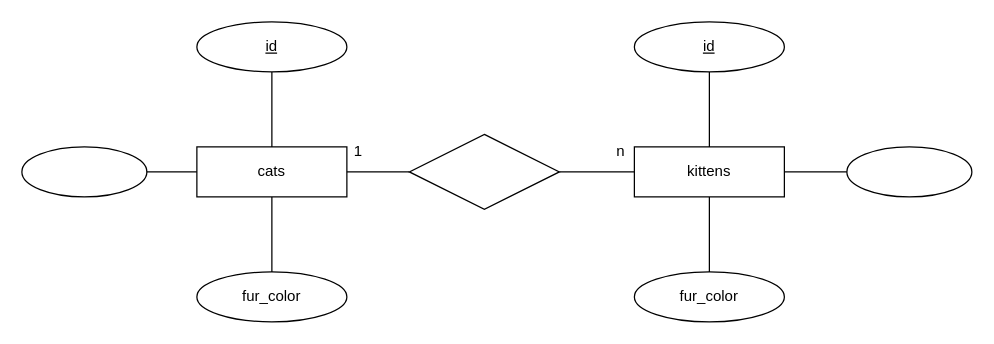
This 994x344 diagram has some shape labels left out. Here are the shapes that lost their labels. From the top down, the centre of each, then its label:
At pixel 84 171: "cat_name".
At pixel 483 171: "has a".
At pixel 909 171: "kitten_name".
